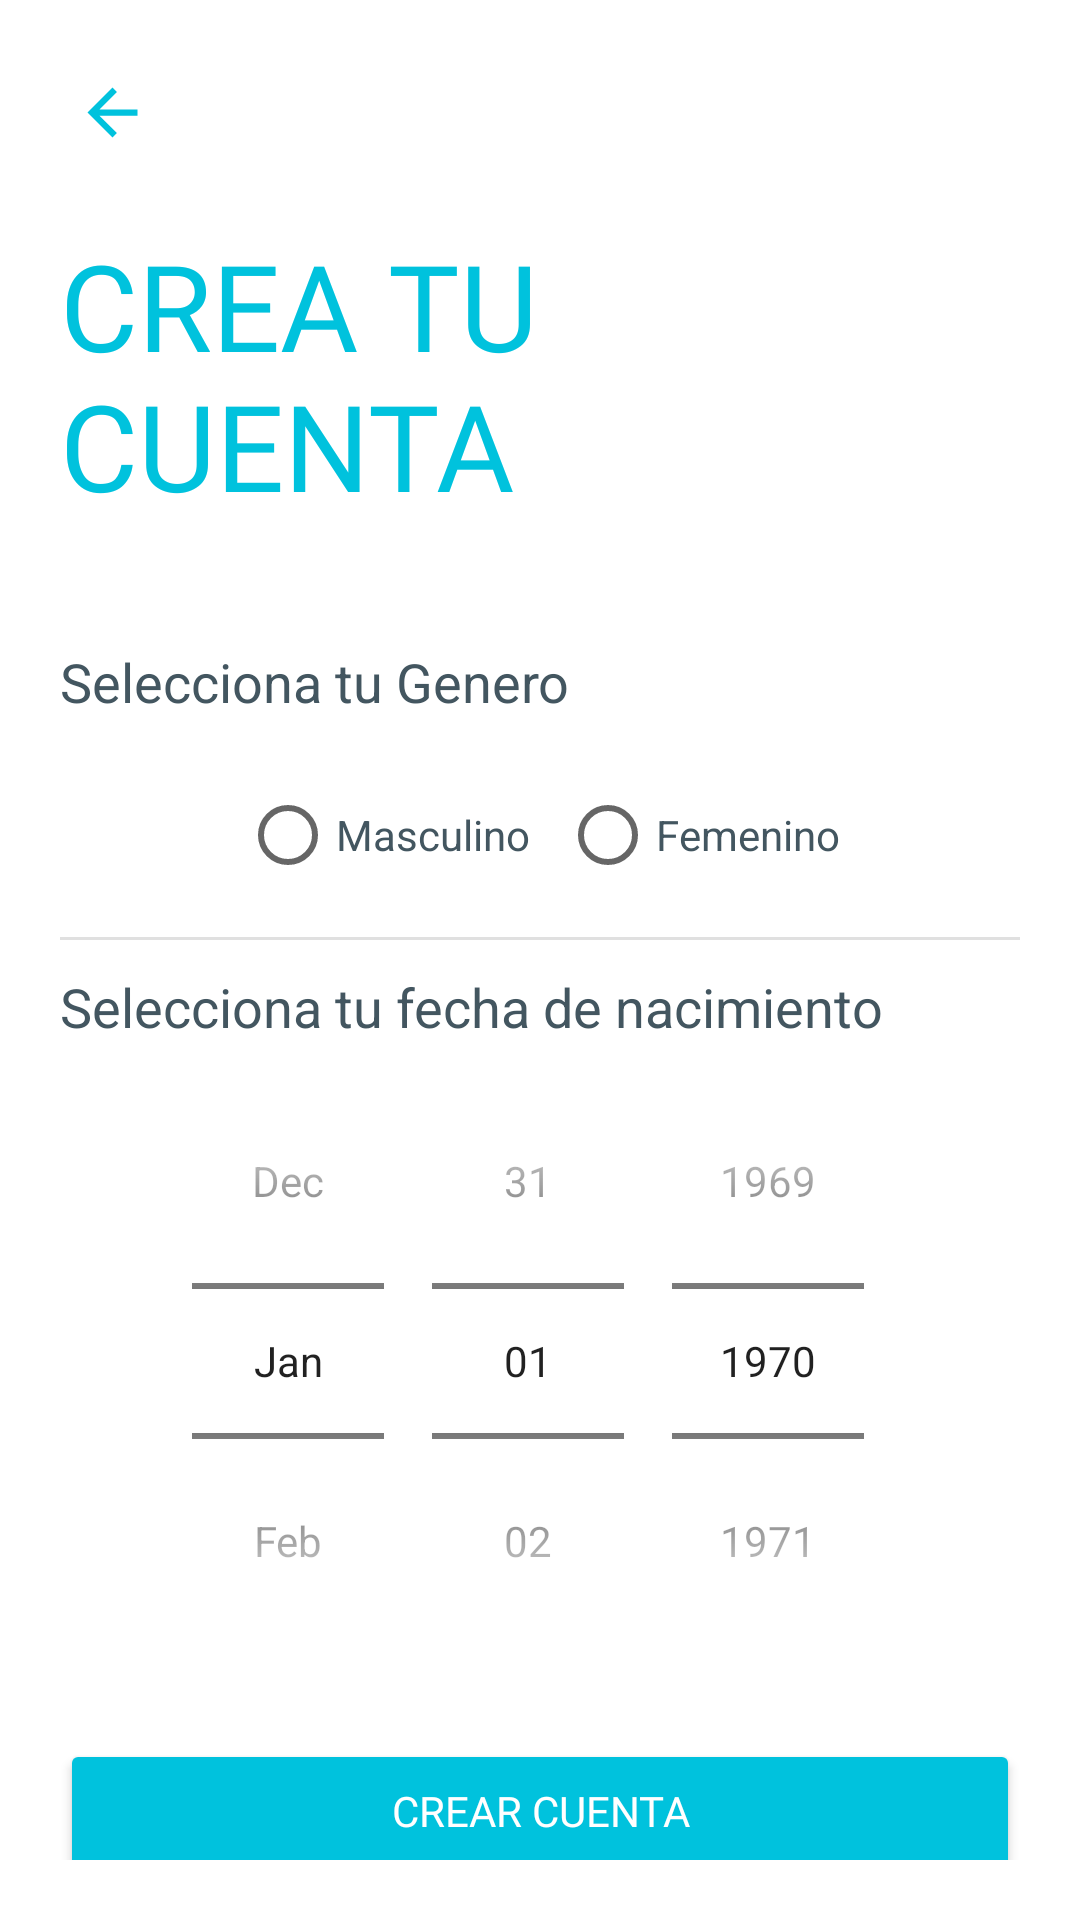

Icon click points for this 1080x1920 phone screenshot, format point (x, y):
arrow back: point (112, 112)
